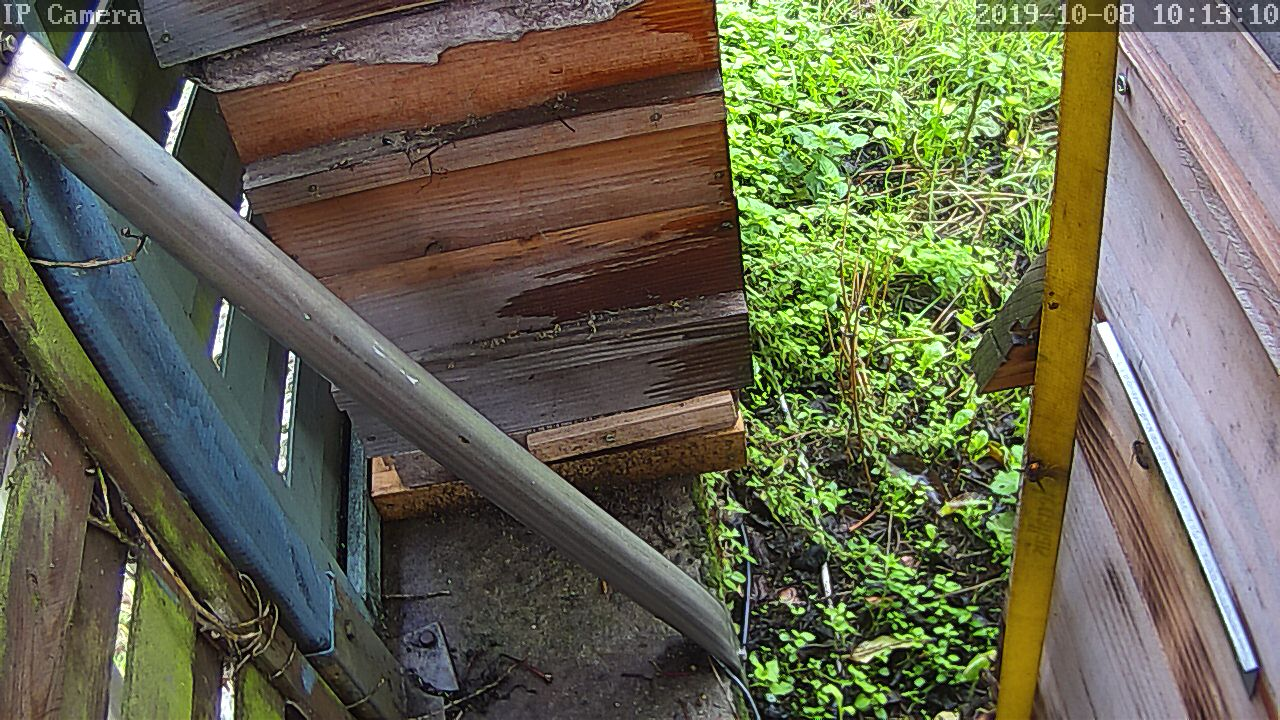bee: (1127, 435, 1153, 477)
hornet: (1017, 457, 1057, 489)
